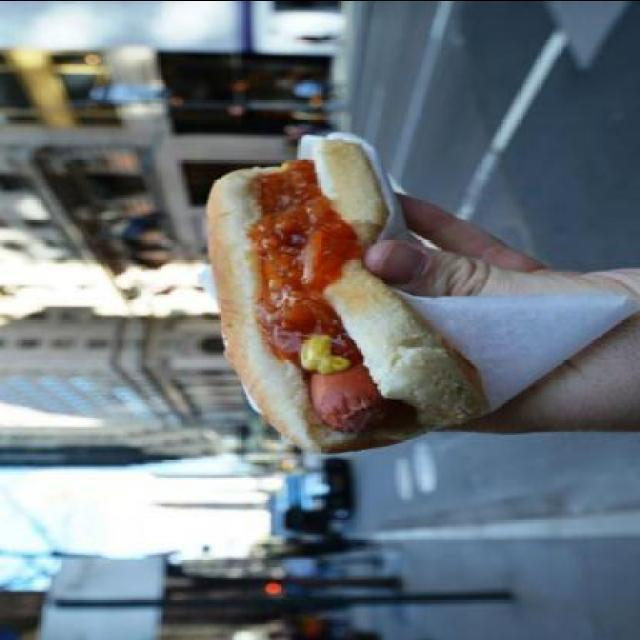Hot dog: (196, 132, 494, 452)
